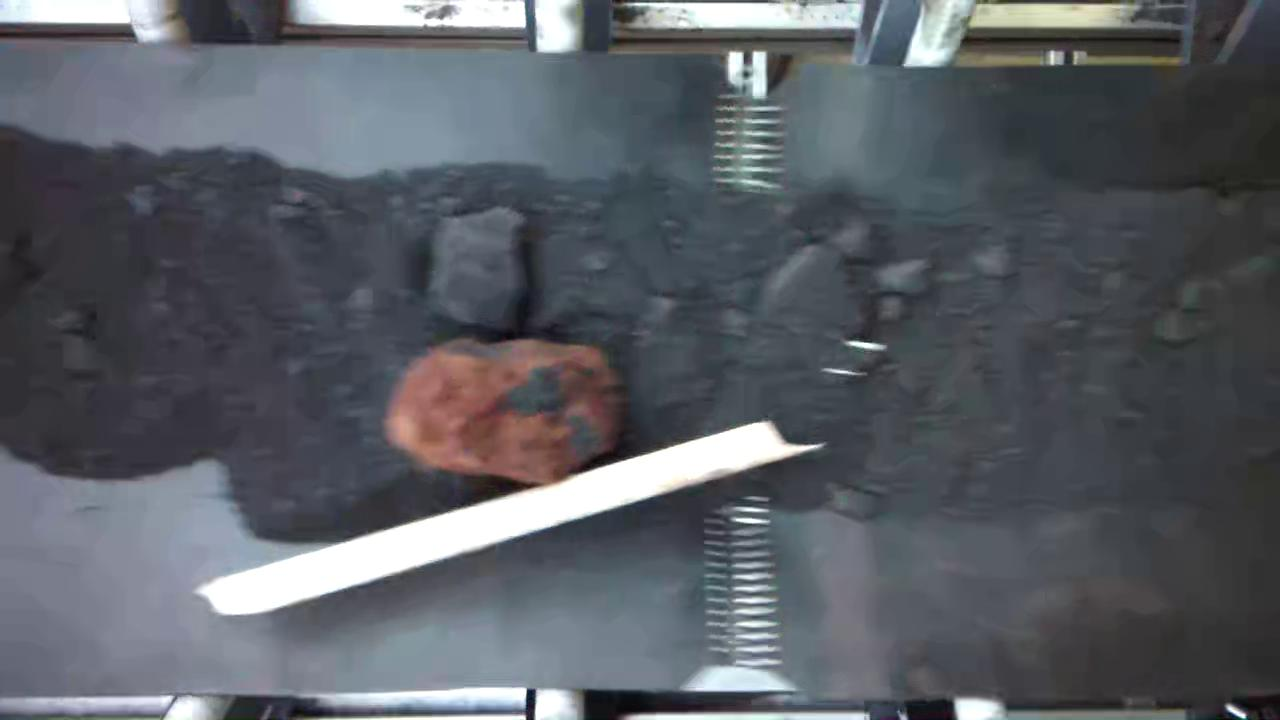conveyor: (0, 77, 1280, 690)
